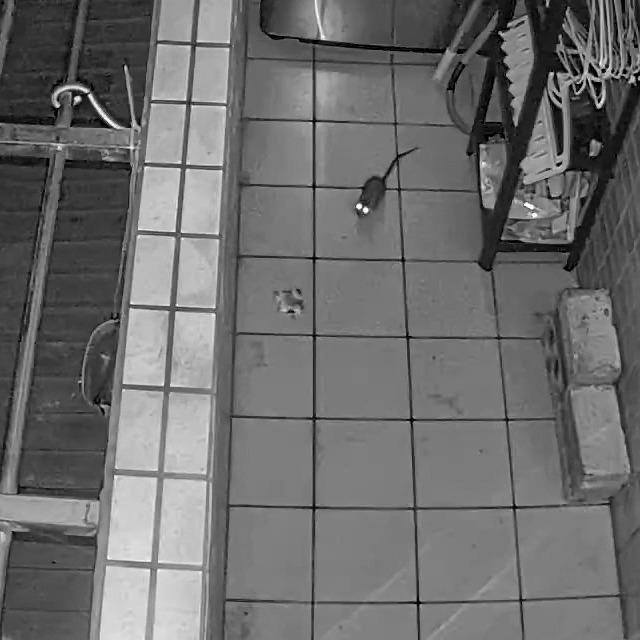rat: (353, 146, 426, 220)
